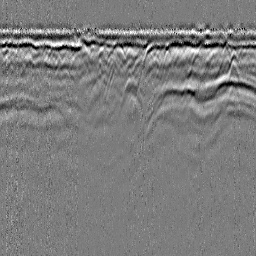cavity: (116, 74, 145, 122)
